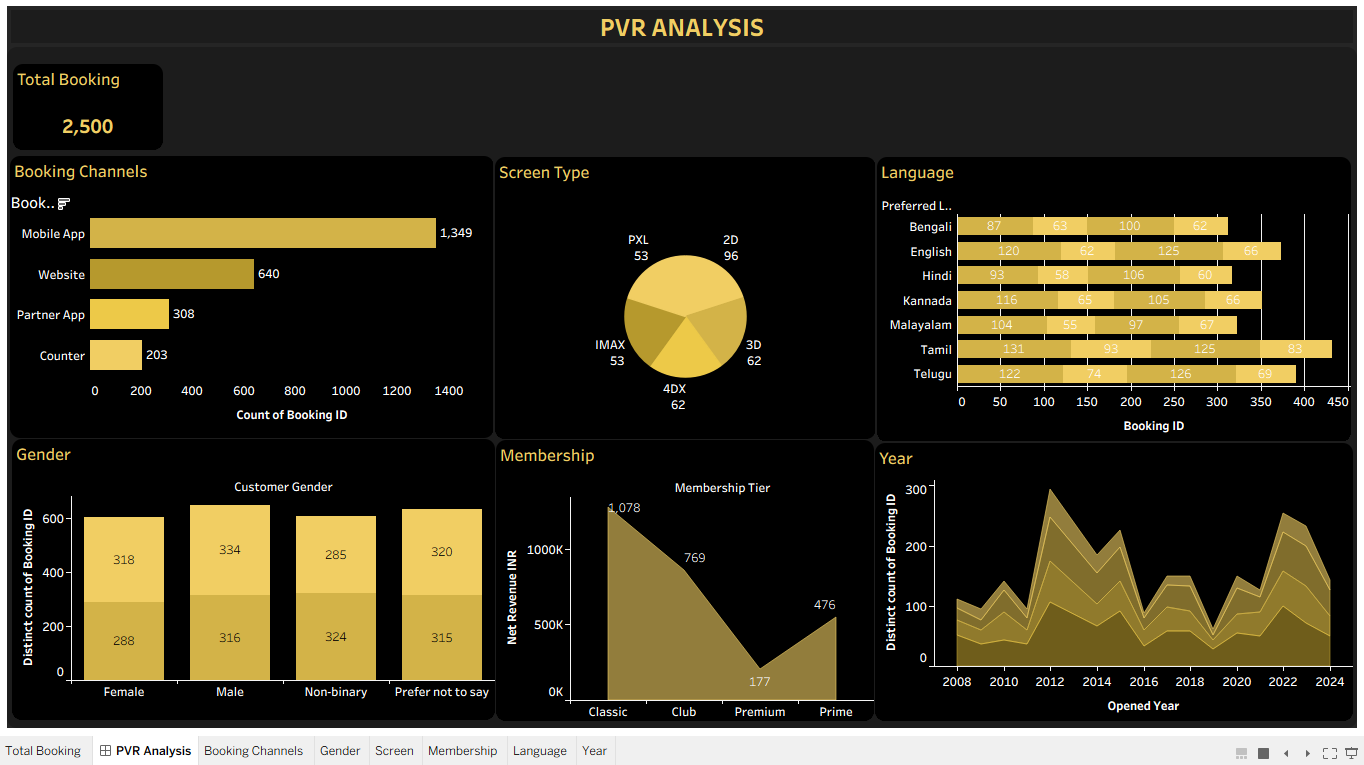

What the dashboard file says about the page in this screenshot:
{"tool":"tableau","page":{"name":"PVR Analysis","canvas":[1000,1000],"units":"permille","ordinal":0},"visuals":[{"type":"title","box":[6.9,13.7,986.1,70.2]},{"type":"worksheet","title":"Total Booking","mark":"Automatic","box":[10.4,89,110,116.4]},{"type":"worksheet","title":"Booking Channels","mark":"Automatic","rows":["Booking_Channel"],"cols":["Booking_ID"],"box":[7.8,214,354.1,381.9]},{"type":"worksheet","title":"Screen","mark":"Pie","box":[362.8,215.8,278.8,381.9]},{"type":"worksheet","title":"Language","mark":"Automatic","rows":["Preferred_Language"],"cols":["Booking_ID"],"box":[642.4,215.8,347.2,385.3]},{"type":"worksheet","title":"Gender","mark":"Automatic","rows":["Booking_ID"],"cols":["Customer_Gender"],"box":[9.5,597.6,353.2,380.1]},{"type":"worksheet","title":"Membership","mark":"Area","rows":["Net_Revenue_INR"],"cols":["Membership_Tier"],"box":[363.6,599.3,277.1,380.1]},{"type":"worksheet","title":"Year","mark":"Area","rows":["Booking_ID"],"cols":["Opened_Year"],"box":[641.6,602.7,349.8,376.7]}]}

Visuals, with their boxes on the dashboard's canvas, which has no fixed pixel size, in thousandths of its width and height (x1, y1, x2, y2). These are canvas units, not pixel positions in the 1364x765 screenshot, which may show the page scaled, cropped or inside an application window:
title: detection(7, 14, 993, 84)
"Total Booking" worksheet: detection(10, 89, 120, 205)
"Booking Channels" worksheet: detection(8, 214, 362, 596)
"Screen" worksheet (Pie marks): detection(363, 216, 642, 598)
"Language" worksheet: detection(642, 216, 990, 601)
"Gender" worksheet: detection(10, 598, 363, 978)
"Membership" worksheet (Area marks): detection(364, 599, 641, 979)
"Year" worksheet (Area marks): detection(642, 603, 991, 979)
